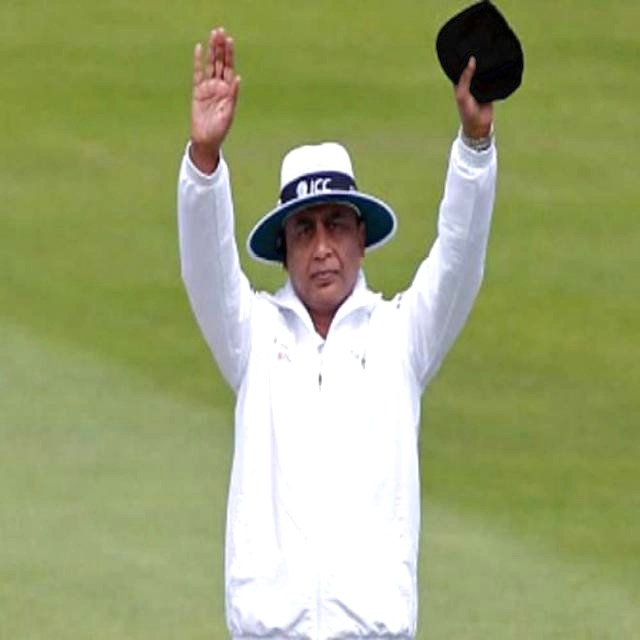Six: (164, 0, 524, 640)
